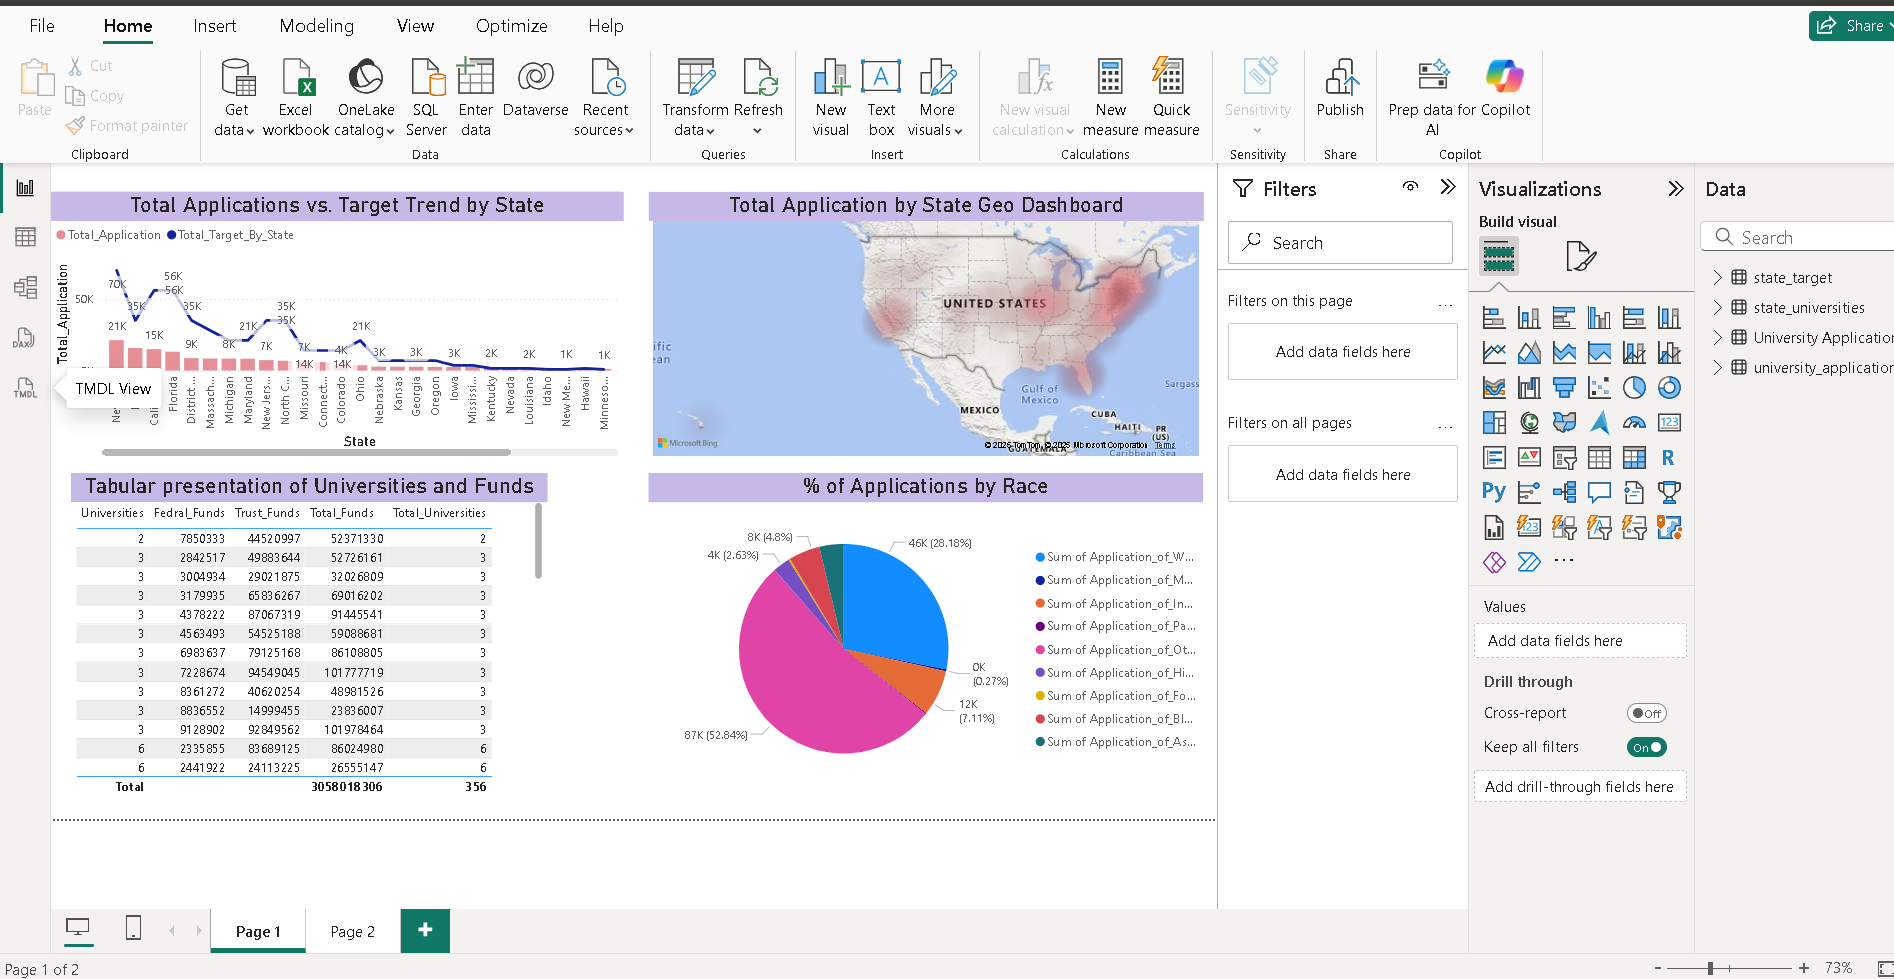

The page's visual inventory and layout, read from the dashboard file:
{"tool":"powerbi","page":{"name":"Page 1","canvas":[1280,720],"ordinal":0},"visuals":[{"type":"lineClusteredColumnComboChart","title":"Total Applications vs. Target Trend by State","fields":{"Y2":["university_applications.Total_Target_By_State"],"Y":["university_applications.Total_Application"],"Category":["state_universities.State"]},"box":[0,31.6,628.5,295],"z":0},{"type":"map","title":"Total Application by State Geo Dashboard","fields":{"Size":["university_applications.Total_Application"],"Category":["state_universities.State"]},"box":[655.9,31.6,609.3,295],"z":1000},{"type":"tableEx","title":"Tabular presentation of Universities and Funds","fields":{"Values":["state_universities.Universities","state_universities.Fedral_Funds","state_universities.Trust_Funds","University Applications Charter.Total_Funds","University Applications Charter.Total_Universities"]},"box":[21.4,340,522.9,358.6],"z":1001},{"type":"pieChart","title":"% of Applications by Race","fields":{"Y":["university_applications.pt_tot_white_v","university_applications.pt_tot_multi_non_hisp_v","university_applications.pt_tot_indian_v","university_applications.pt_tot_pacific_v","university_applications.Application_of_Other_Races","university_applications.Application_of_Hispanic_Students","university_applications.Application_of_Foreign_Students","university_applications.Application_of_Black_Students","university_applications.Application_of_Asian_Students"]},"box":[656,340,609,359],"z":1002}]}

Visuals, with their boxes on the page's 1280x720 design canvas (x1, y1, x2, y2). These are canvas units, not pixel positions in the 1894x979 screenshot, which may show the page scaled, cropped or inside an application window:
"Total Applications vs. Target Trend by State" lineClusteredColumnComboChart: [left=0, top=32, right=628, bottom=327]
"Total Application by State Geo Dashboard" map: [left=656, top=32, right=1265, bottom=327]
"Tabular presentation of Universities and Funds" tableEx: [left=21, top=340, right=544, bottom=699]
"% of Applications by Race" pieChart: [left=656, top=340, right=1265, bottom=699]
